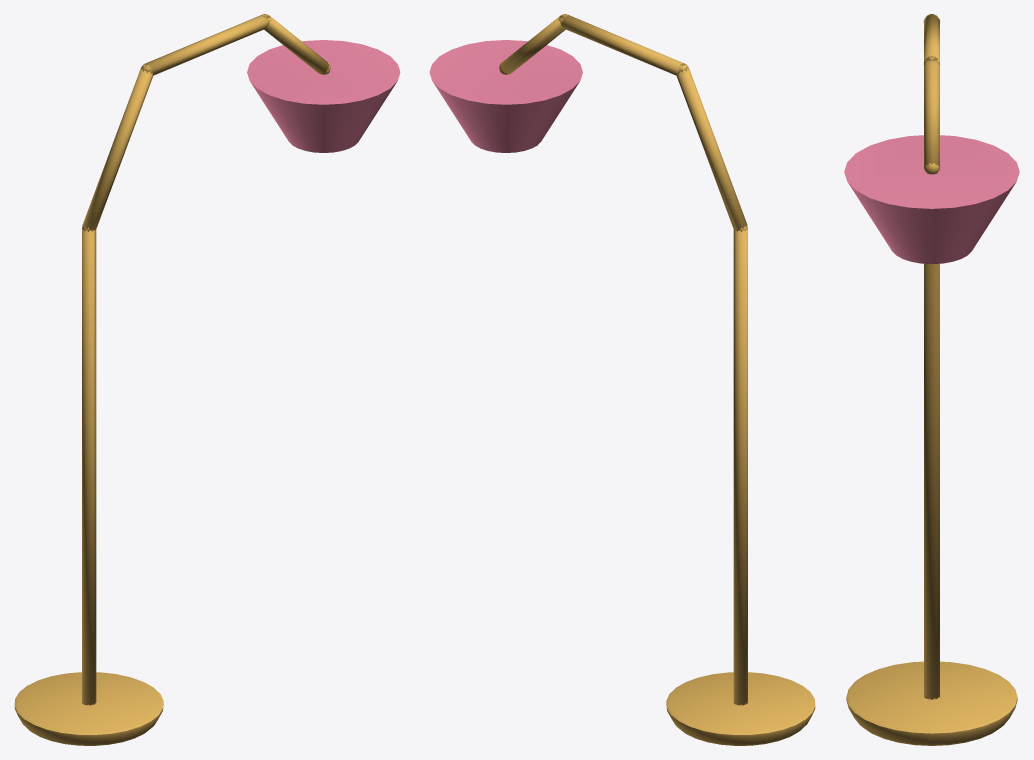
The model's file is floor-lamp-arc.glb.
3 views of the same model, side by side, from view 1: azimuth 30°, elevation 25°; view 2: azimuth 150°, elevation 25°; view 3: azimuth 270°, elevation 25° (orthographic). The views are drawn at different scales.
Parts seen in each view (by area): view 1: floor-lamp-arc; view 2: floor-lamp-arc; view 3: floor-lamp-arc.
Boxes of the visible parts, <box> form: floor-lamp-arc: <box>14,14,400,745</box>; floor-lamp-arc: <box>429,14,815,745</box>; floor-lamp-arc: <box>844,14,1019,745</box>.
Bounding box in the file's own units: 0.9358 × 1.62 × 0.34.
